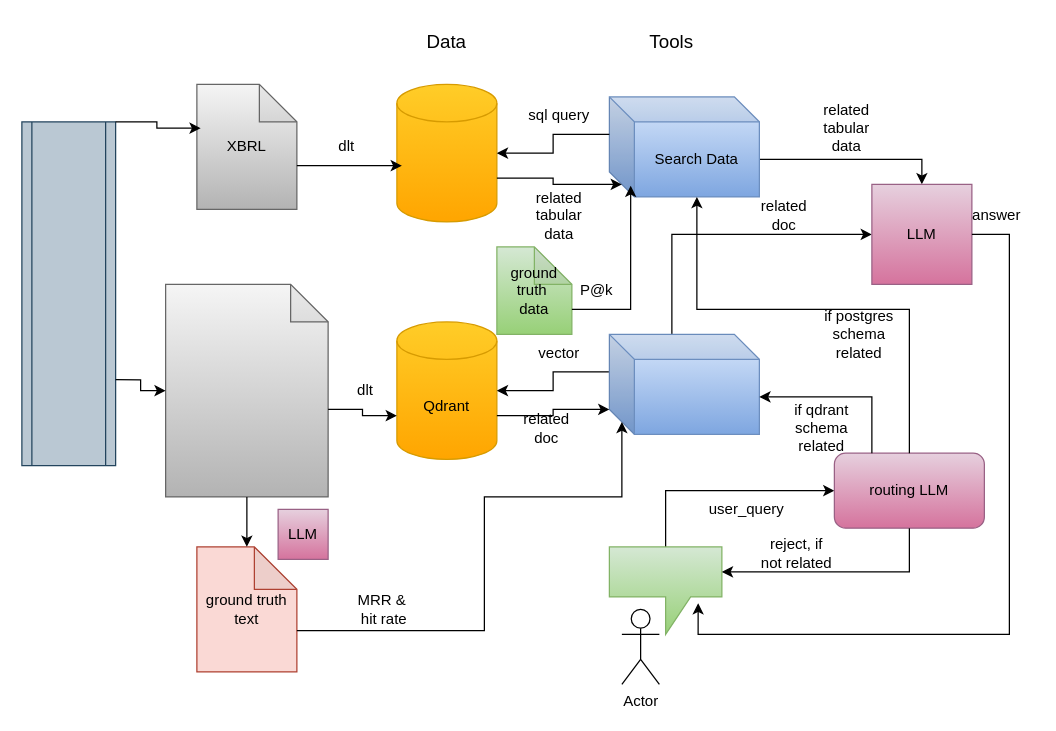
Image size: 1056x731. Some labels were removed from this diagram. Each missing label, with the centre of its shape:
"chat" goes at point (665, 590).
"Company Name: Year: Quarter: Filing Type: Section: Context:" goes at point (246, 390).
"Data Engineering Pipeline" goes at point (68, 293).
"duckdb" goes at point (446, 152).
"Search Text" goes at point (683, 383).
